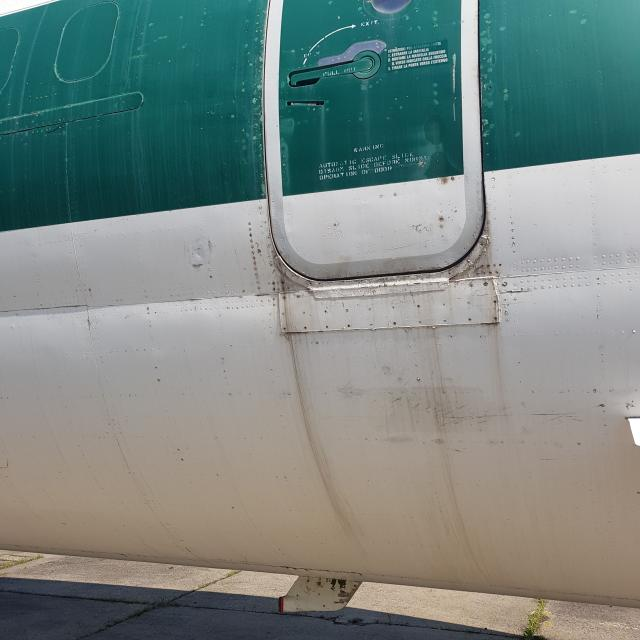Rupture: (41, 127, 69, 136)
